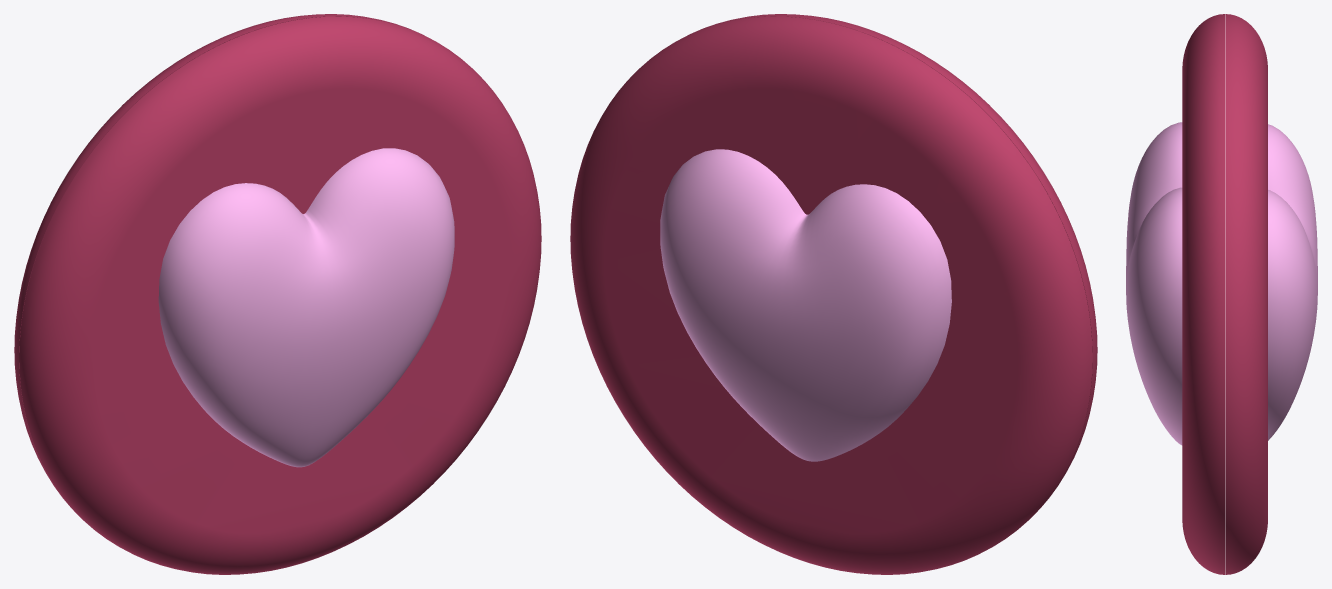
The model's file is adore.glb.
3 renders of one model, left to right at view 1: azimuth 30°, elevation 25°; view 2: azimuth 150°, elevation 25°; view 3: azimuth 270°, elevation 25°, orthographic. The views are drawn at different scales.
Visible parts, largest first — view 1: Object_2.001, BASE HEART_Material #41_0.001; view 2: Object_2.001, BASE HEART_Material #41_0; view 3: Object_2.001, BASE HEART_Material #41_0.001, BASE HEART_Material #41_0.
Part boxes in pixels (x1,y1,x2,y2): Object_2.001: (14,14,541,574); BASE HEART_Material #41_0.001: (158,148,454,467); Object_2.001: (570,14,1097,574); BASE HEART_Material #41_0: (660,149,951,461); Object_2.001: (1182,14,1267,574); BASE HEART_Material #41_0.001: (1126,122,1182,445); BASE HEART_Material #41_0: (1268,124,1317,440).
Size of the model in its own units: 23.19 by 23.19 by 7.93.
